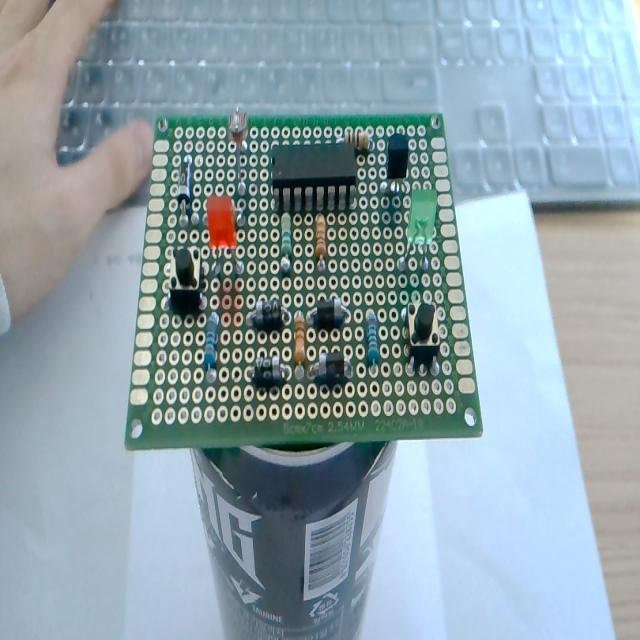IC: (269, 143, 356, 214)
cds: (227, 108, 249, 206)
diode: (307, 350, 352, 385), (247, 298, 291, 333), (307, 297, 349, 331), (252, 352, 290, 388), (177, 154, 193, 225)
led: (203, 192, 240, 279), (405, 190, 437, 276)
resistor: (203, 311, 220, 373), (366, 310, 379, 368), (314, 214, 327, 271), (338, 127, 370, 150), (280, 212, 292, 272), (293, 314, 306, 366)
switch: (404, 300, 440, 375), (169, 246, 206, 313)
transistor: (380, 131, 408, 222)
